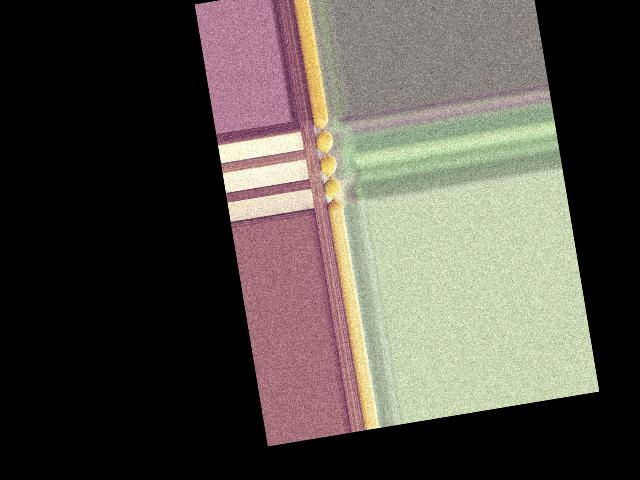lemon: (313, 115, 330, 129)
